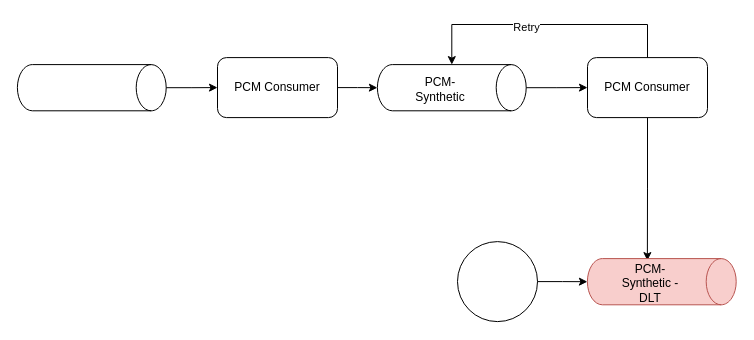
The diagram is 754 pixels wide and 340 high, and some of its shapes have lost their labels. Each missing label, with the centre of its shape:
DT Monitoring: (x=497, y=281)
PCM: (x=91, y=87)
